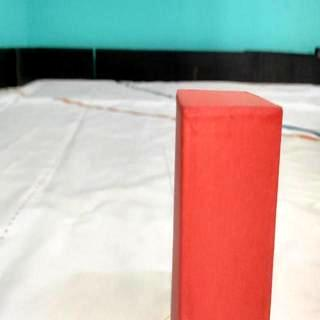redbox: (170, 87, 282, 320)
